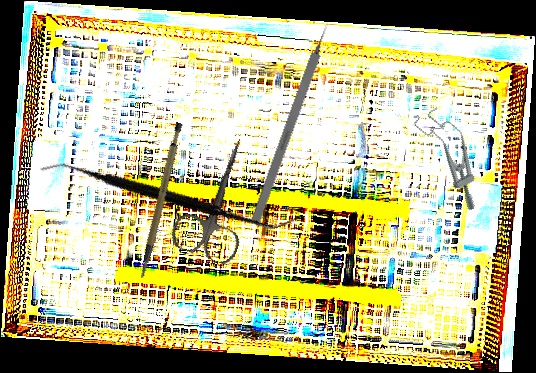Hook Surgical: (250, 14, 335, 224)
Iris Scissors: (167, 128, 273, 267)
Scalpel Handle: (115, 121, 203, 279)
Spatula Surgical: (39, 99, 298, 289)
Speculum: (409, 99, 497, 216)
